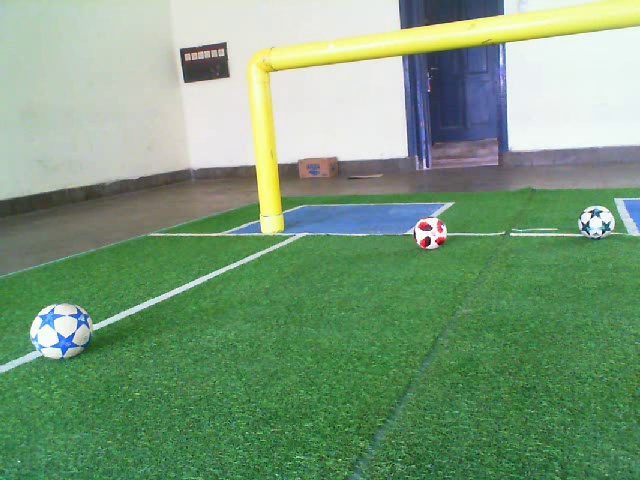ball: (28, 300, 95, 362), (575, 203, 617, 242), (412, 215, 449, 252)
